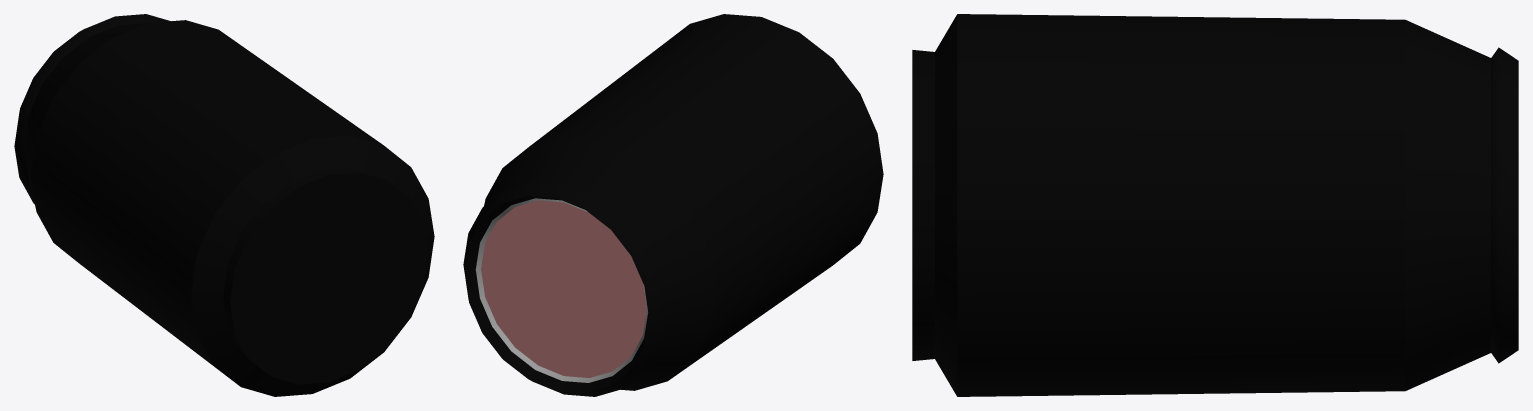
The model's file is Engine_Can_01.fbx.
The picture shows the model from 3 angles, left to right: view 1: azimuth 30°, elevation 25°; view 2: azimuth 150°, elevation 25°; view 3: azimuth 270°, elevation 25°; orthographic projection. The views are drawn at different scales.
Parts seen in each view (by area): view 1: ENG_Can_Black; view 2: ENG_Can_Black, ENG_Can; view 3: ENG_Can_Black.
Boxes of the visible parts, <box> form: ENG_Can_Black: <box>14,14,434,396</box>; ENG_Can_Black: <box>463,14,883,396</box>; ENG_Can: <box>475,198,648,382</box>; ENG_Can_Black: <box>912,14,1518,396</box>.
Size of the model in its own units: 96.09 by 96.09 by 151.
